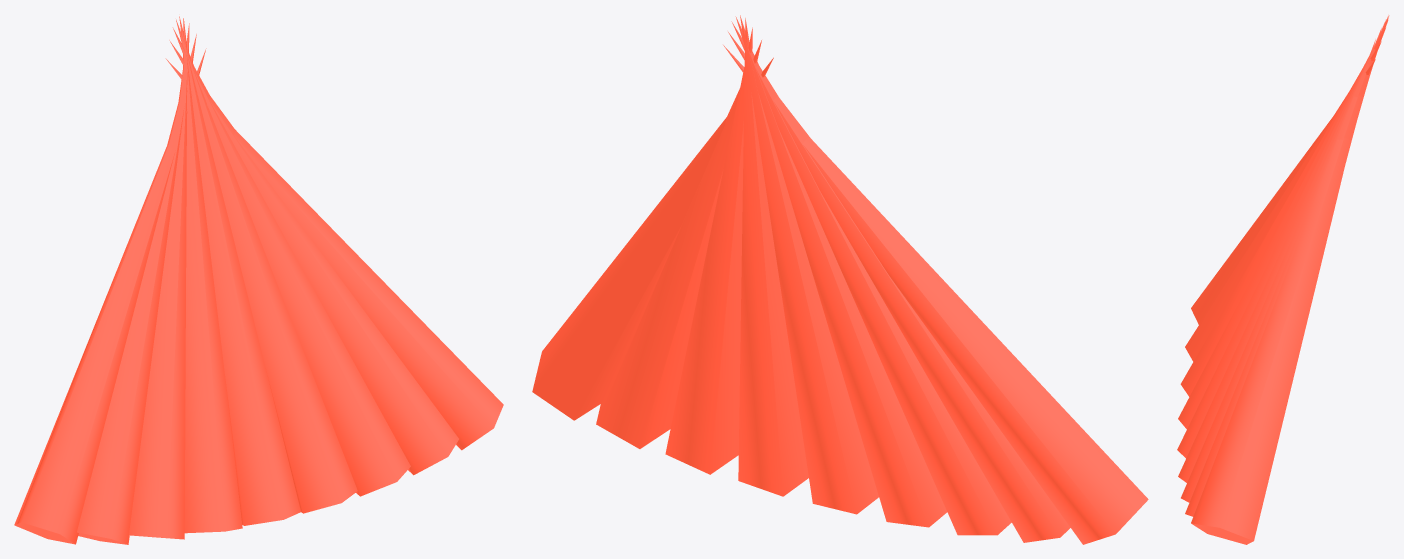
File: nine_tail.glb
The picture shows the model from 3 angles, left to right: view 1: azimuth 30°, elevation 25°; view 2: azimuth 150°, elevation 25°; view 3: azimuth 270°, elevation 25°; orthographic projection. The views are drawn at different scales.
Visible parts, largest first — view 1: tail_01, tail_05, tail_06, tail_04, tail_07, tail_03, tail_09, tail_08, tail_02; view 2: tail_01, tail_05, tail_06, tail_04, tail_07, tail_09, tail_03, tail_08, tail_02; view 3: tail_09, tail_05, tail_04, tail_06, tail_07, tail_03, tail_08, tail_02, tail_01.
Part boxes in pixels (x1,y1,x2,y2): tail_01: (14, 48, 206, 544); tail_05: (179, 16, 300, 525); tail_06: (176, 19, 357, 513); tail_04: (183, 18, 242, 533); tail_07: (172, 27, 410, 496); tail_03: (129, 23, 189, 539); tail_09: (165, 58, 503, 450); tail_08: (169, 40, 458, 475); tail_02: (77, 34, 196, 544); tail_01: (723, 45, 1148, 544); tail_05: (740, 15, 878, 514); tail_06: (738, 18, 808, 496); tail_04: (735, 16, 946, 527); tail_07: (665, 27, 752, 474); tail_09: (532, 57, 773, 420); tail_03: (731, 21, 1011, 535); tail_08: (596, 40, 761, 448); tail_02: (728, 32, 1070, 542); tail_09: (1191, 39, 1375, 544); tail_05: (1177, 15, 1389, 458); tail_04: (1178, 20, 1388, 429); tail_06: (1178, 15, 1388, 482); tail_07: (1181, 20, 1385, 502); tail_03: (1180, 28, 1385, 396); tail_08: (1185, 28, 1381, 516); tail_02: (1185, 41, 1381, 361); tail_01: (1191, 59, 1375, 324).
Size of the model in its own units: 1.94 by 1.73 by 0.7299.
